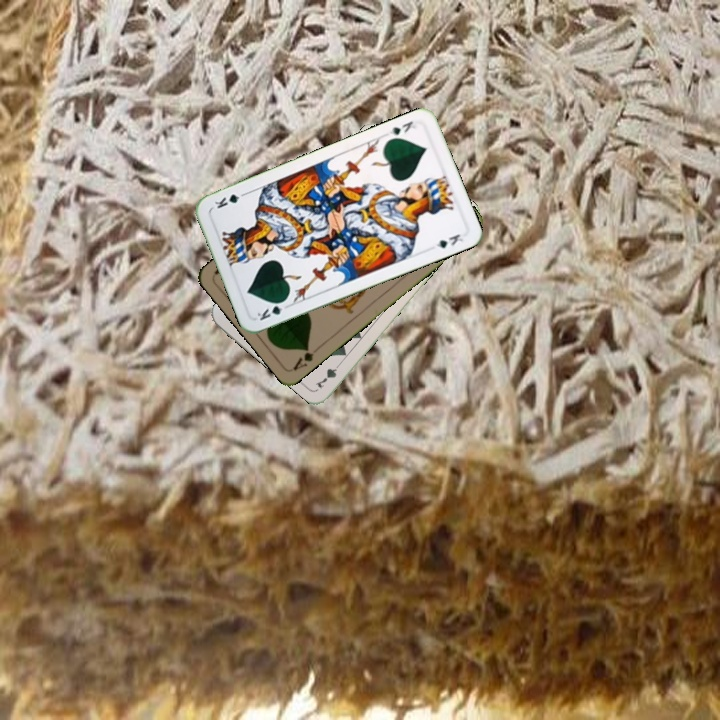G7: (311, 357, 345, 391)
GA: (289, 343, 316, 373)
GK: (253, 296, 292, 323), (384, 117, 420, 138)
